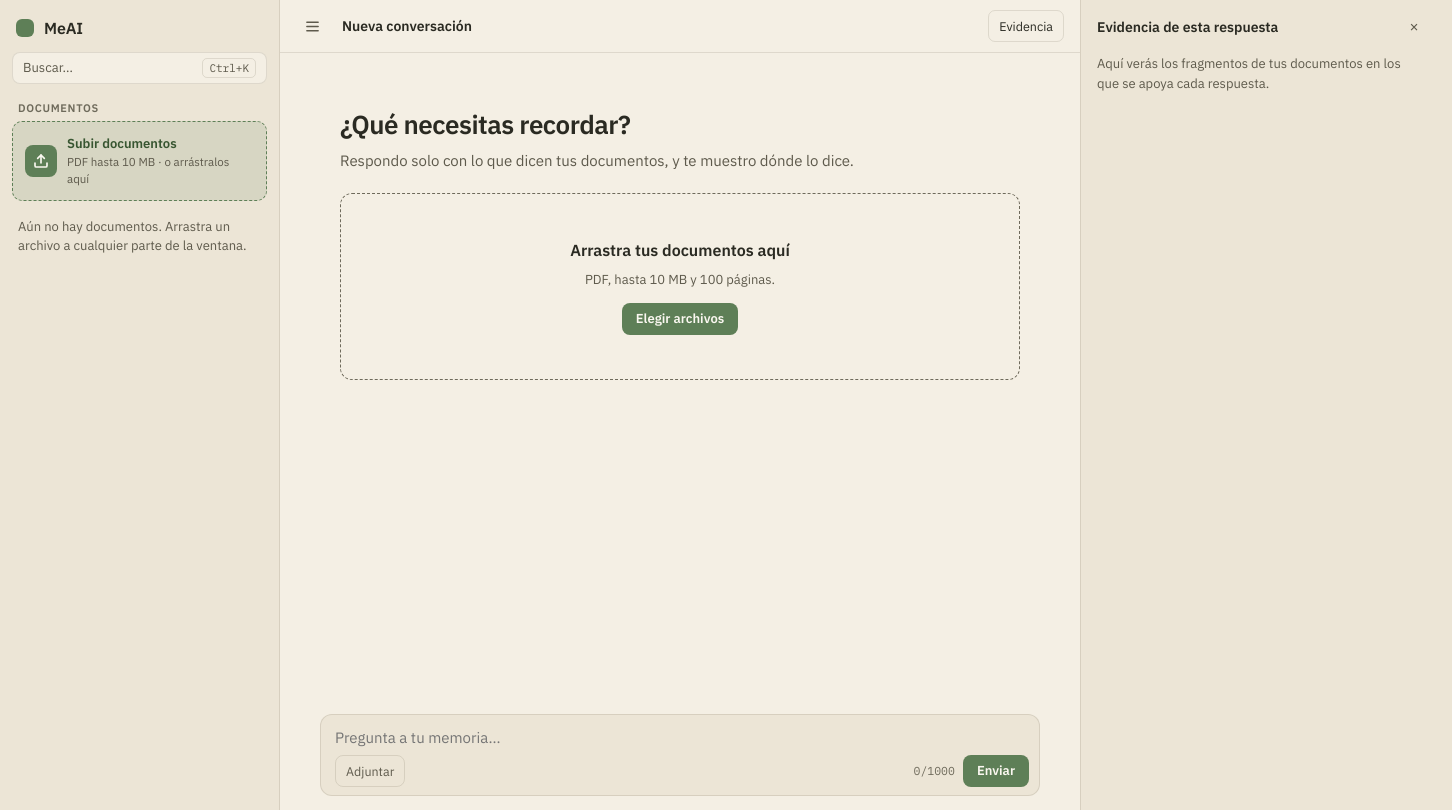
Scenario: keeps messages and marks the citation as unavailable when its document is deleted (RF-5.6, CL-5)
Type "¿Qué dice el manual?" into the text box named "Escribe tu pregunta".
click(682, 738); type("¿Qué dice el manual?")  # box [335,724,1029,751]
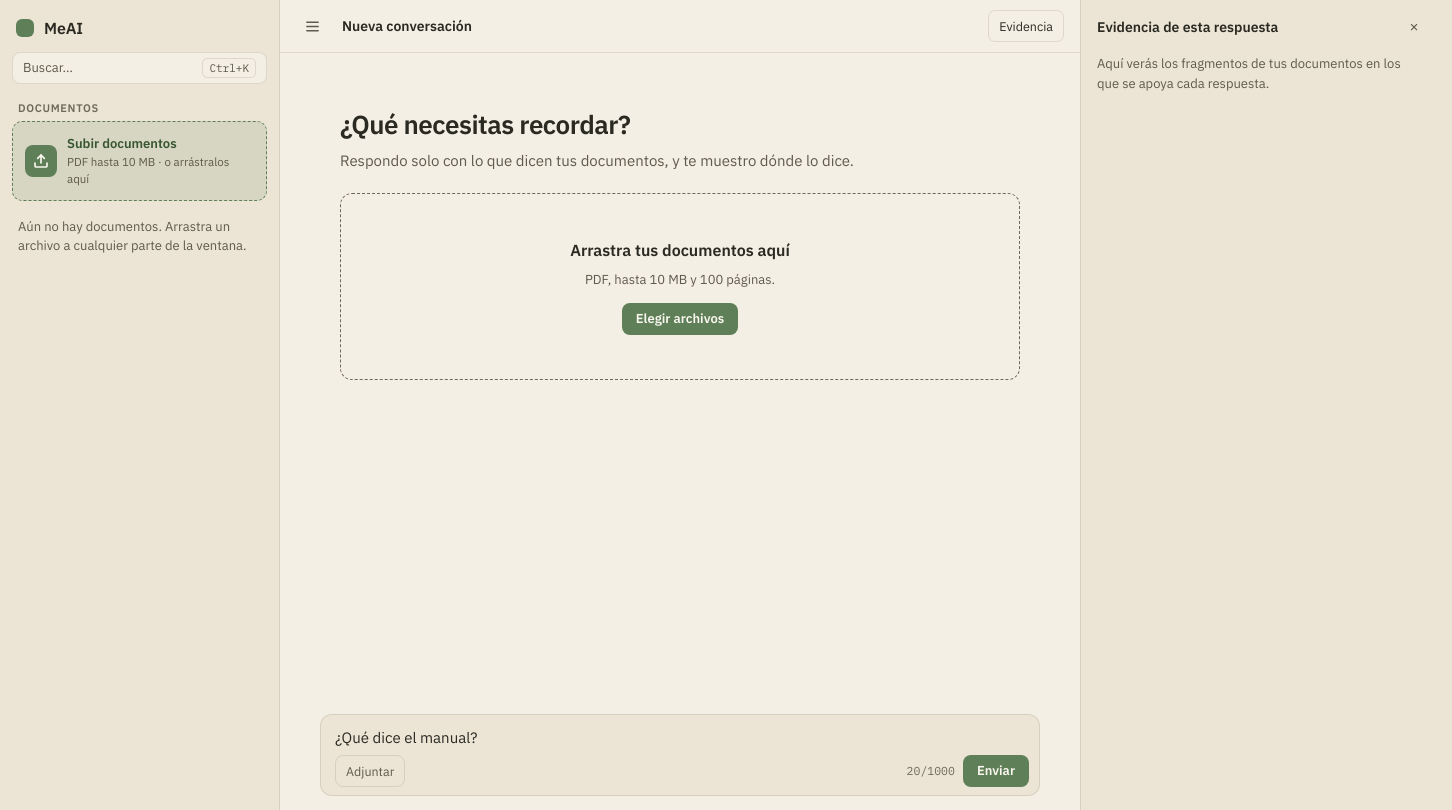
Click the button with aria-label "Enviar pregunta".
click(996, 771)  # box [963,755,1029,787]
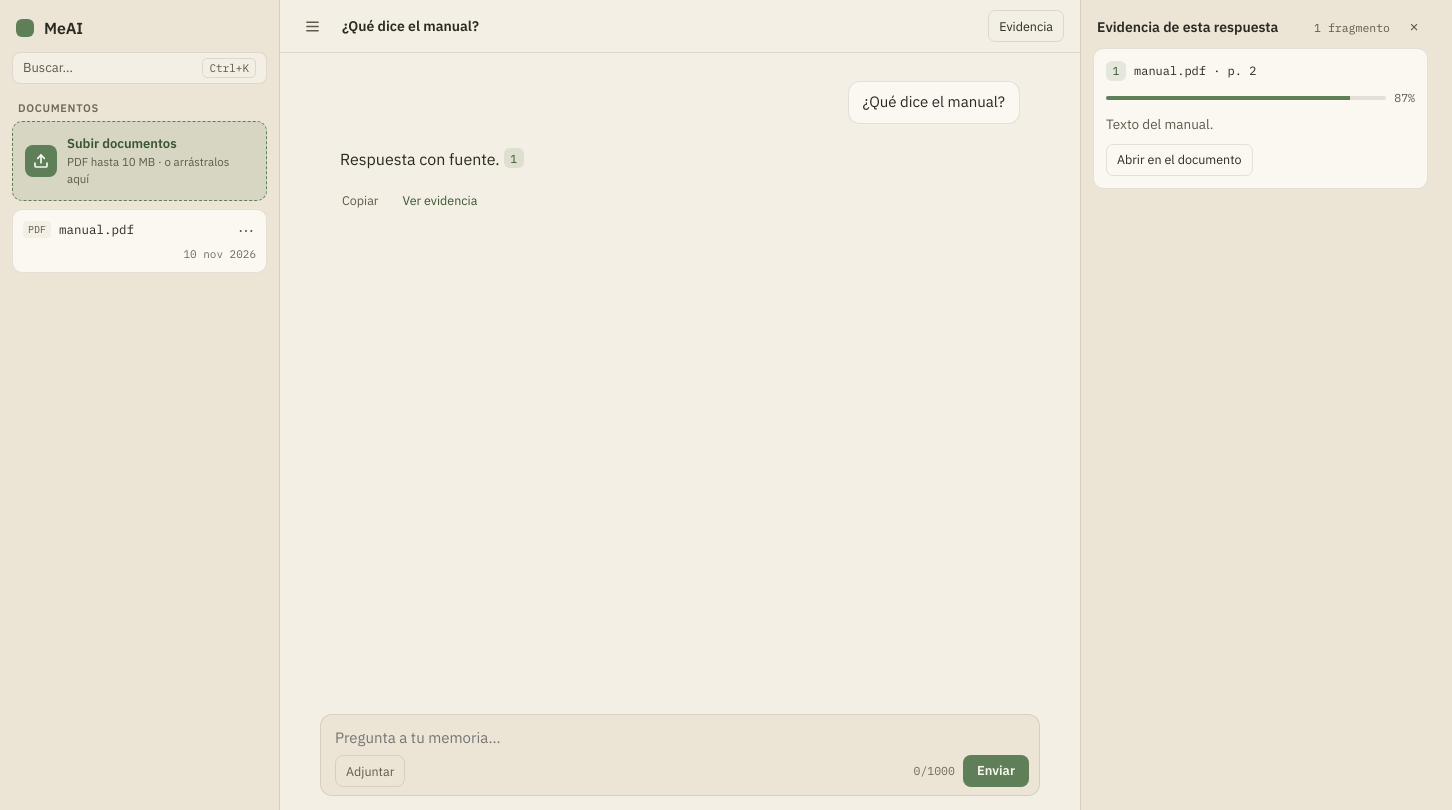
Now the text "Respuesta con fuente." is shown, box [340,148,500,168]
Now the button named "Fuente 1: manual.pdf, página 2" is shown, box [504,148,524,168]
Now the text "manual.pdf · p. 2" is shown, box [1134,63,1256,78]
Click the button named "Más acciones de manual.pdf".
click(246, 230)  # box [230,214,262,246]
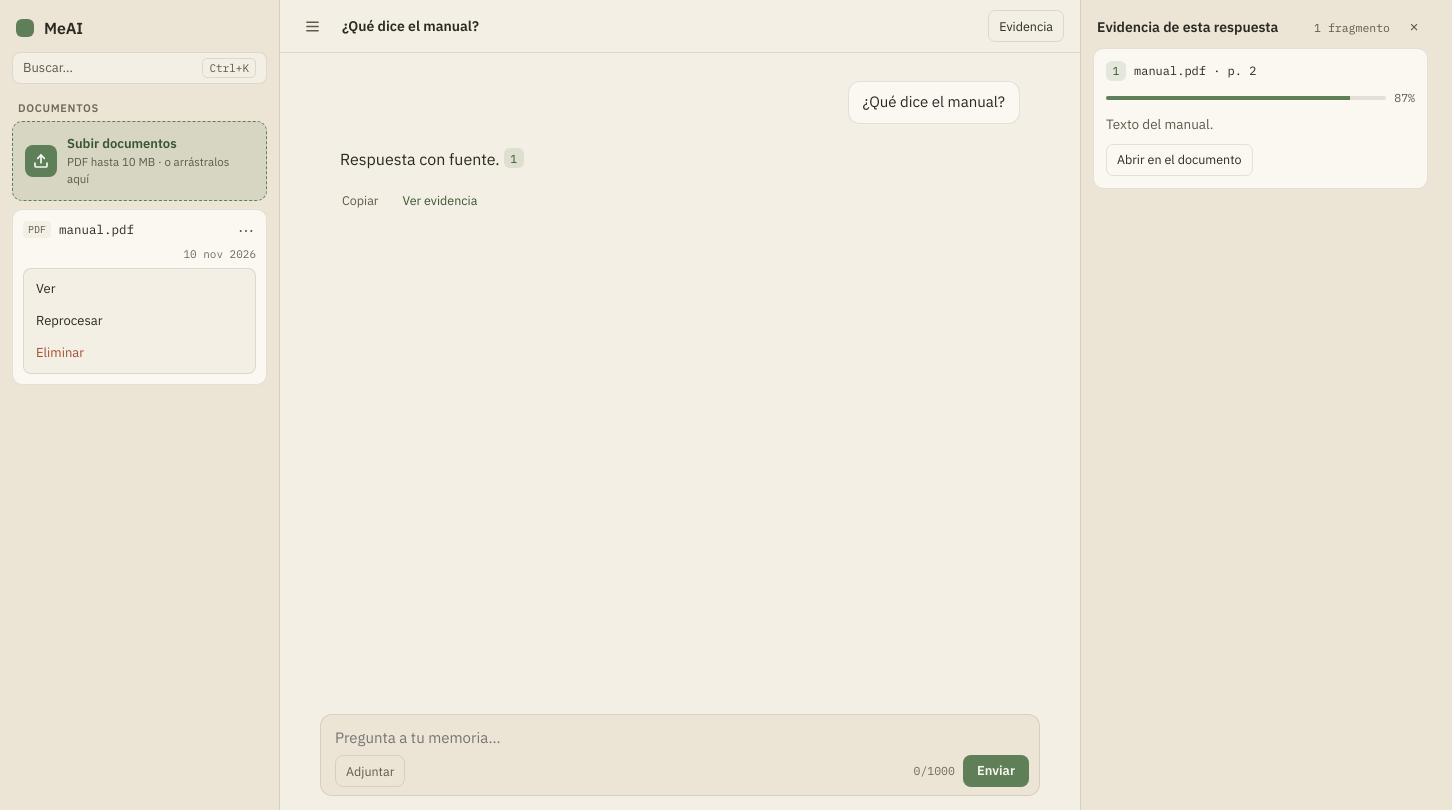
Click the menu item with aria-label "Eliminar manual.pdf".
click(140, 353)  # box [28,337,251,369]
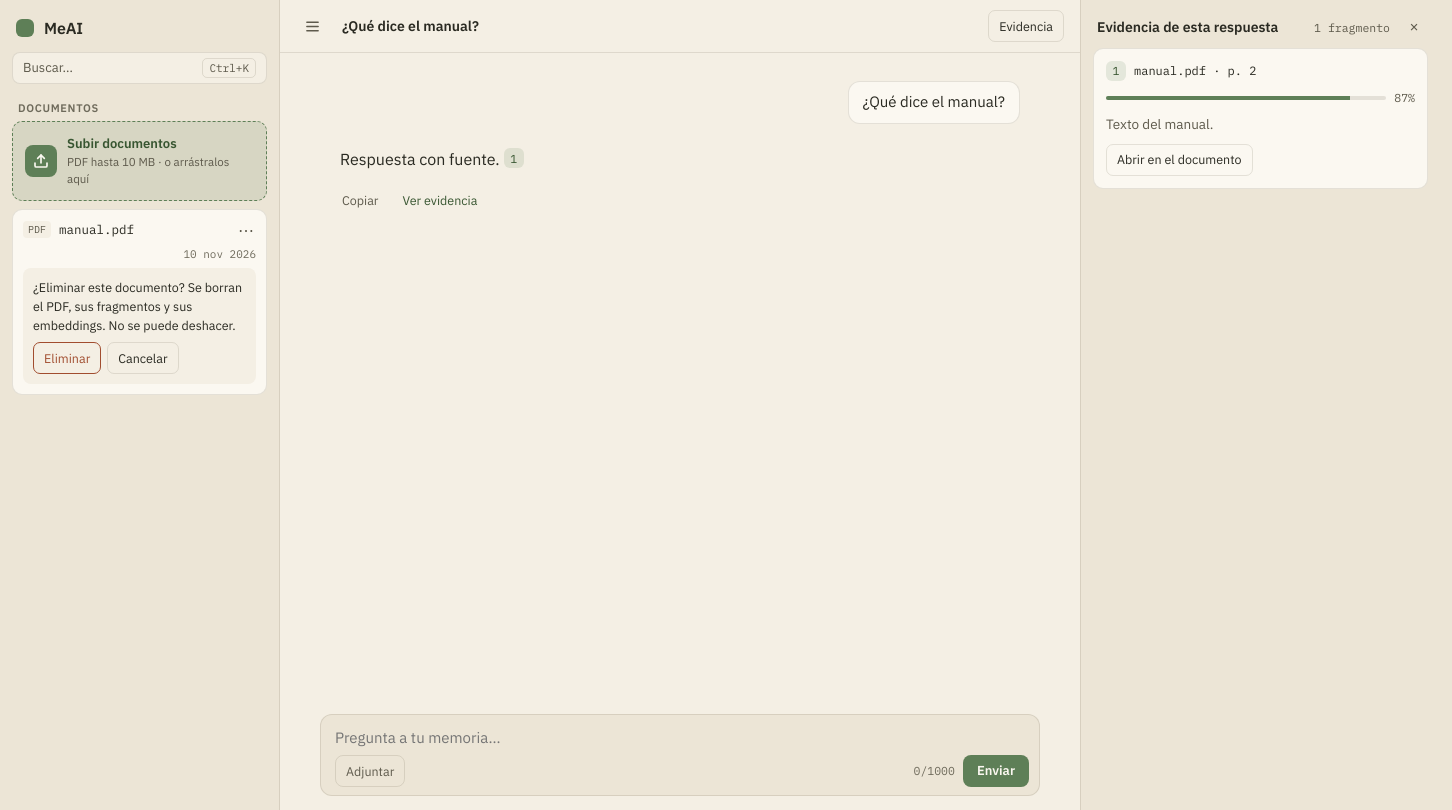
Click the button with aria-label "Confirmar: eliminar manual.pdf".
click(67, 358)  # box [33,342,101,374]
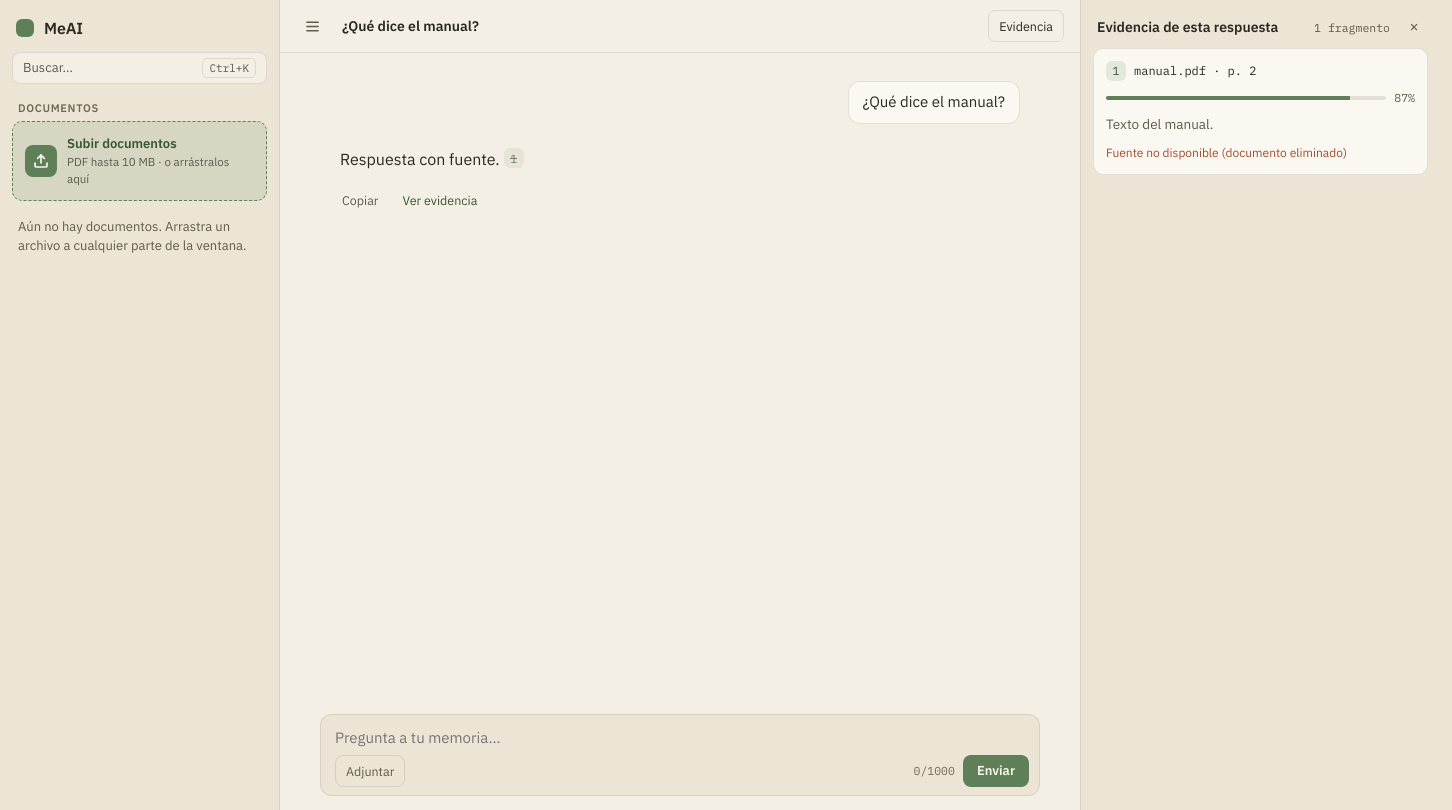
Now the 2nd text "¿Qué dice el manual?" is shown, box [848,81,1020,124]
Now the button named "Fuente 1 no disponible (documento eliminado): manual.pdf, página 2" is shown, box [504,148,524,168]
Now the text "Fuente no disponible (documento eliminado)" is shown, box [1106,145,1347,160]
